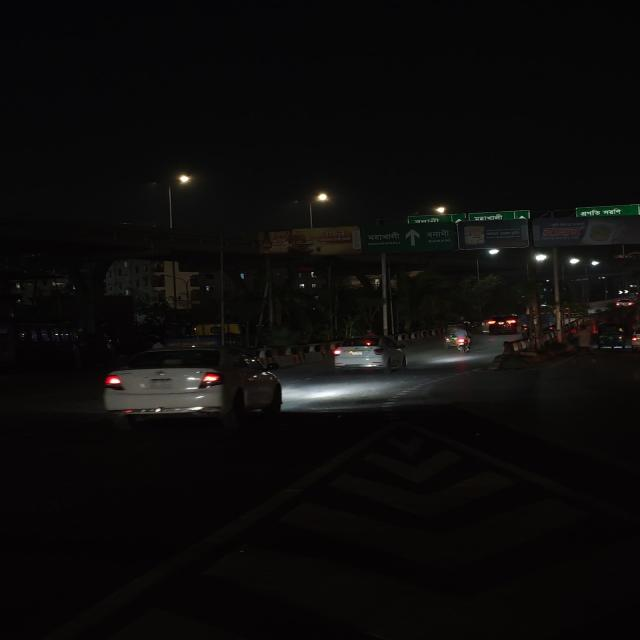car: (98, 344, 284, 429), (327, 334, 409, 376), (485, 314, 528, 336), (614, 297, 636, 308)
cng: (593, 322, 629, 352)
motorcycle: (450, 327, 477, 353)
